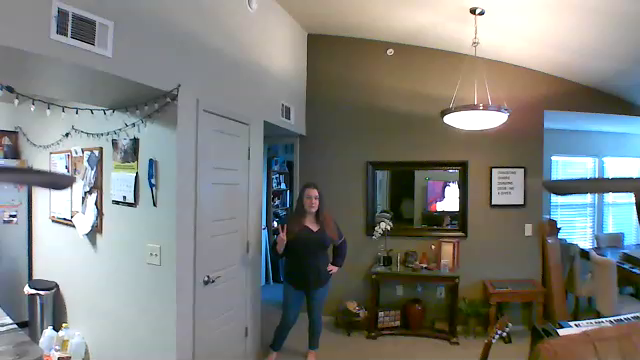peace: (272, 221, 294, 260)
